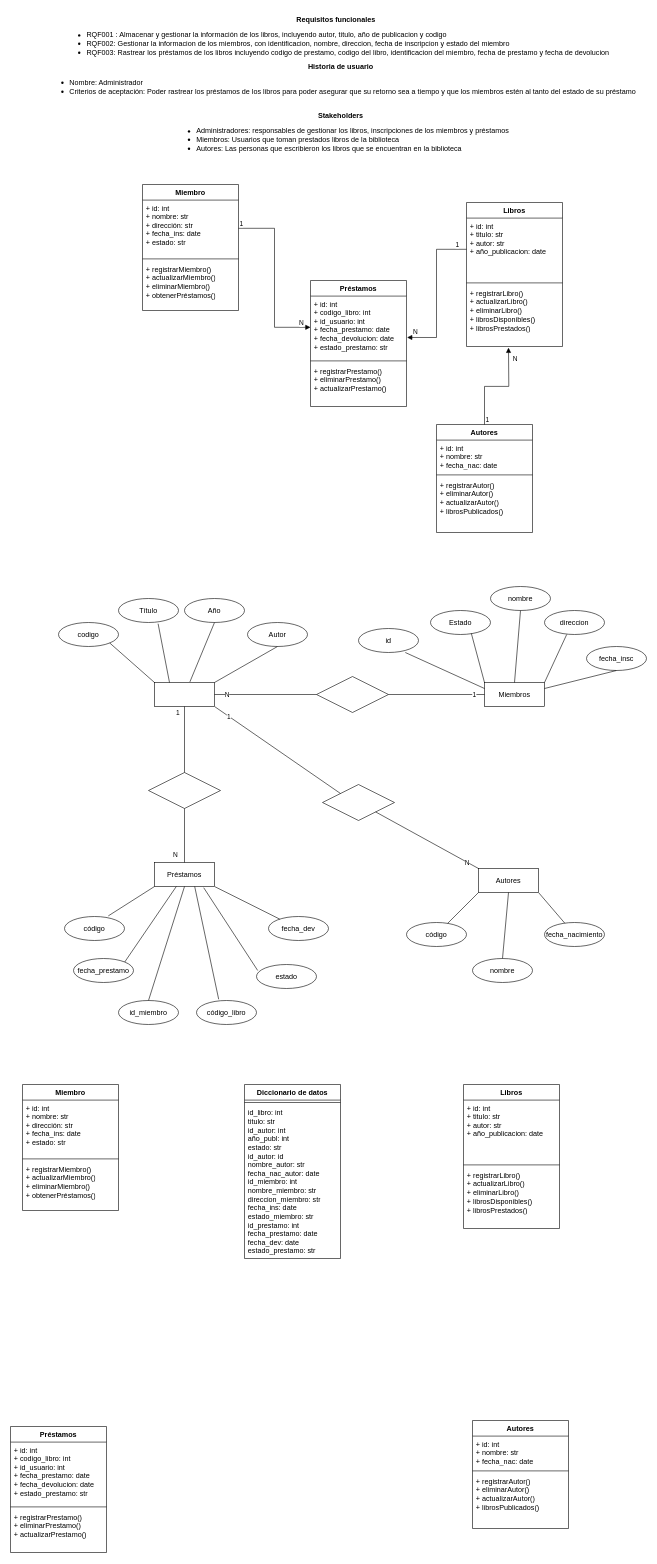
Some shapes in this 657 by 1564 pixel diagram are drawn without their labels. Each missing label, with the centre of its shape:
"Es prestado" belongs at (x=184, y=790).
"Escribe" belongs at (x=358, y=802).
"Libro" belongs at (x=184, y=694).
"Toma prestado" belongs at (x=352, y=694).
